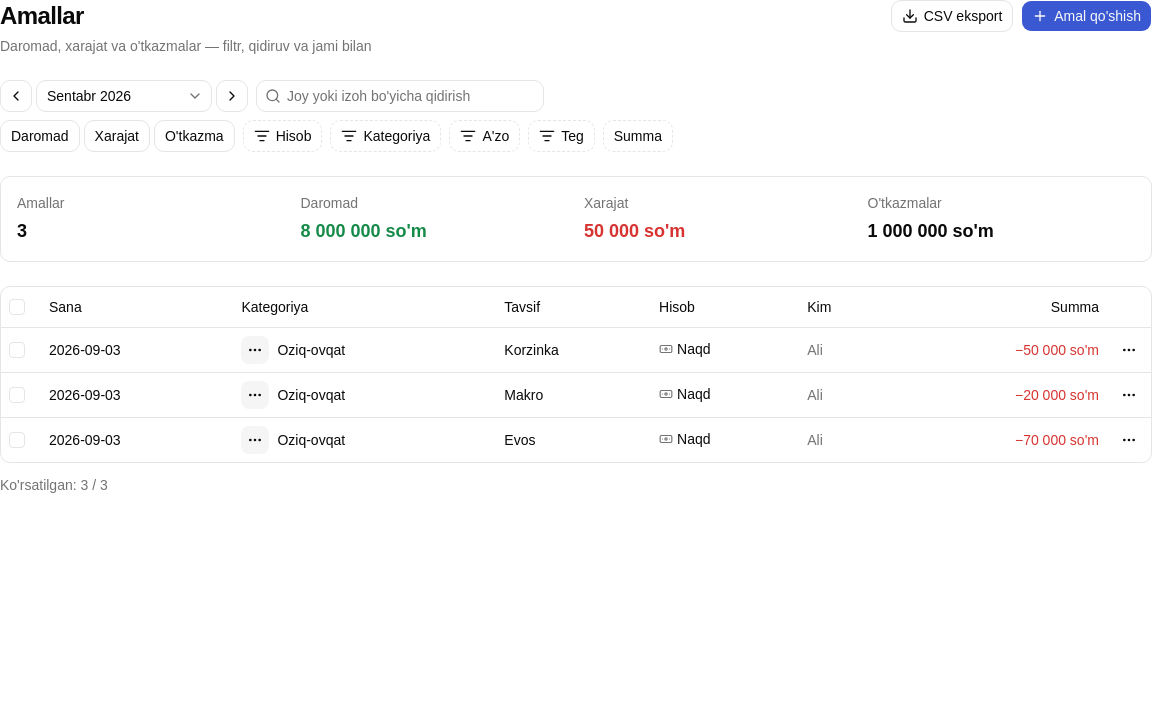
Scenario: Ommaviy amallar va CSV (E23-T03) › ommaviy o‘chirish — tasdiqdan keyin
What coordinates should you click on to do the following:
click the checkbox named "Tanlash: Evos"
I would click on:
 (17, 440)
Its box is x1=9 y1=432 x2=25 y2=448.
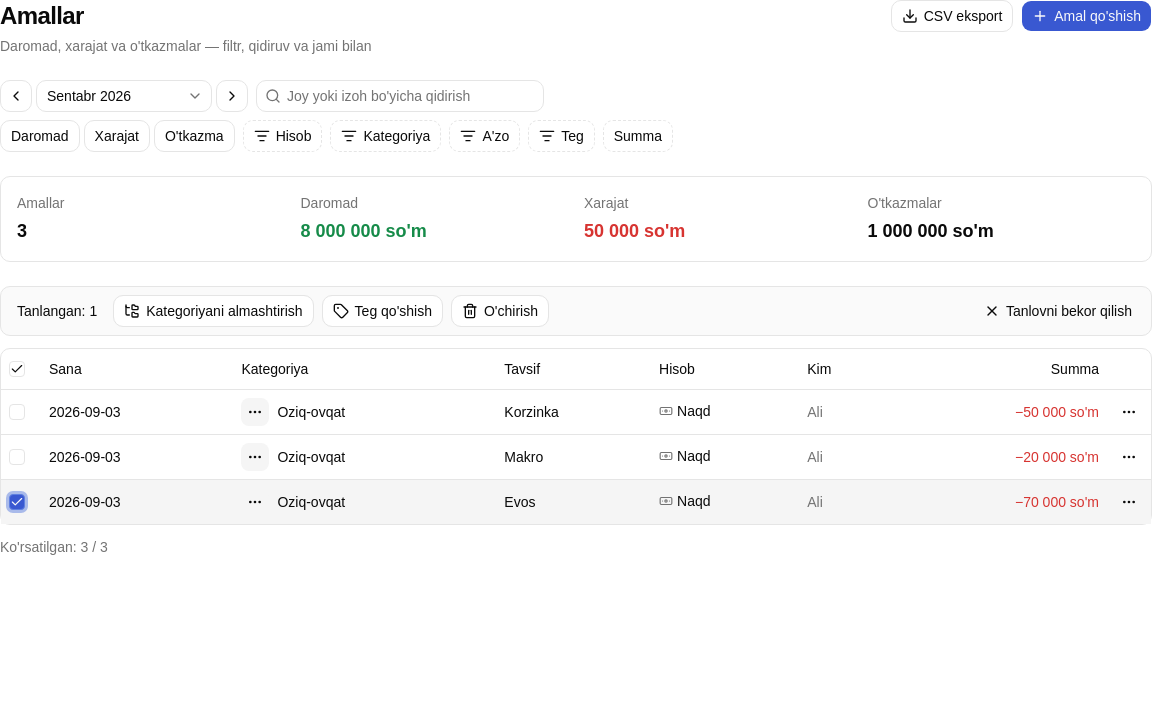
What coordinates should you click on to do the following:
click the button "O'chirish"
I would click on:
 (500, 311)
Its box is x1=451 y1=295 x2=549 y2=327.
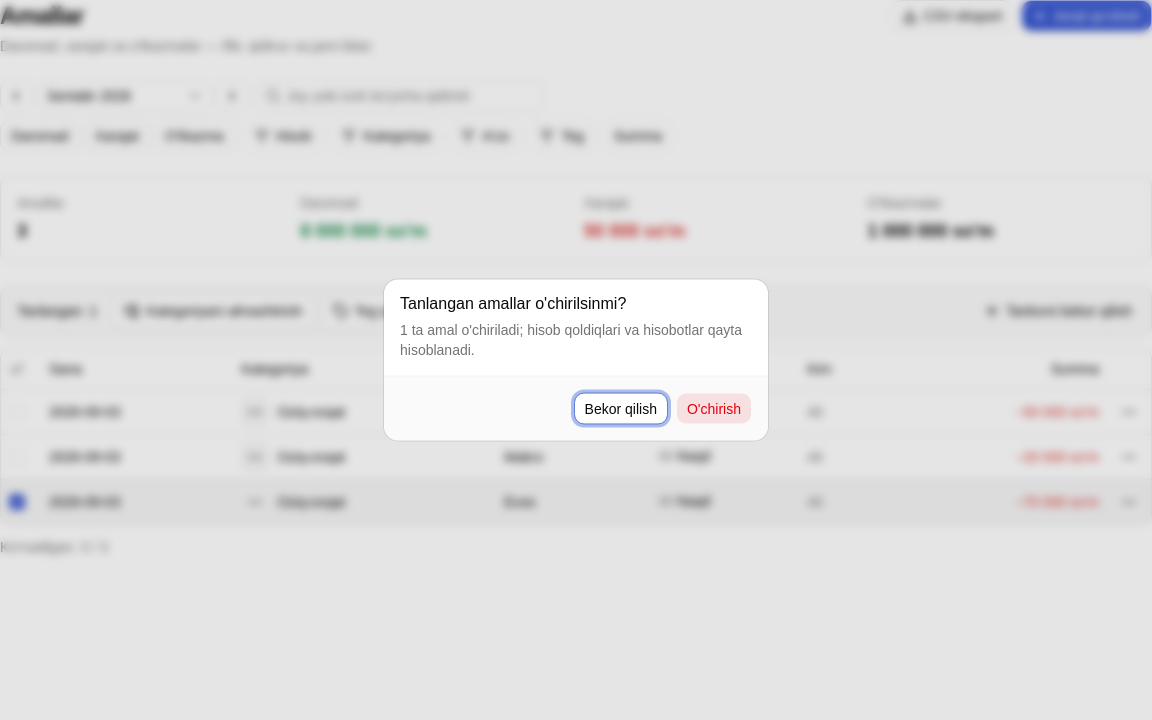
What coordinates should you click on to do the following:
click the button "O'chirish"
I would click on:
 (714, 408)
Its box is x1=676 y1=392 x2=752 y2=424.
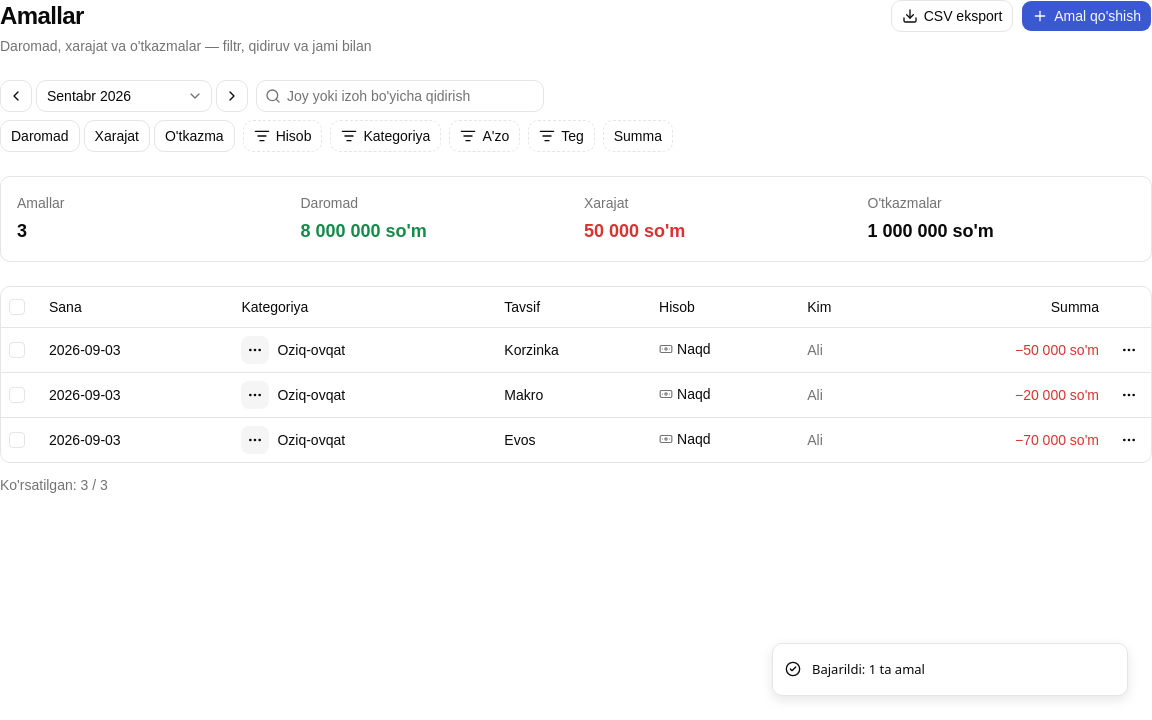
Check: the text "Bajarildi: 1 ta amal" is shown, box x1=812 y1=660 x2=925 y2=679
